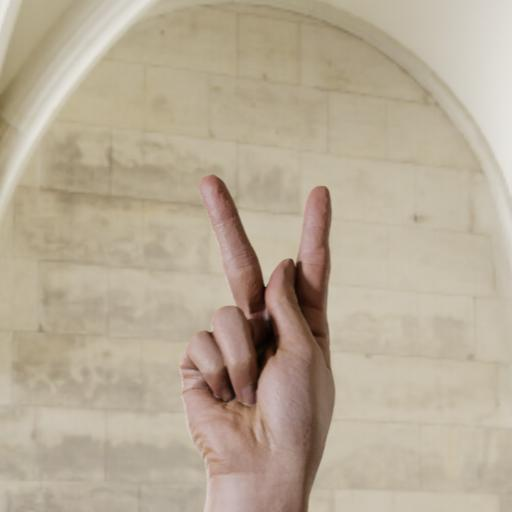K: (162, 163, 354, 512)
